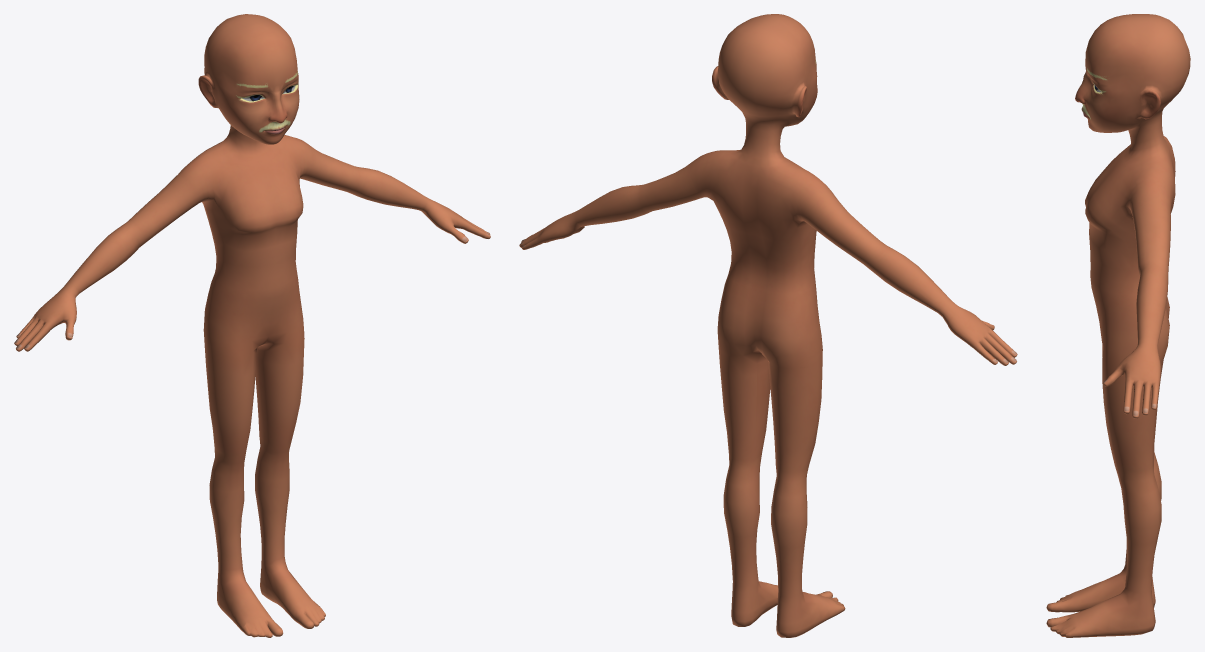
Rendered from frame_0067.glb.
3 renders of one model, left to right at view 1: azimuth 30°, elevation 25°; view 2: azimuth 150°, elevation 25°; view 3: azimuth 270°, elevation 25°, orthographic. The views are drawn at different scales.
Visible parts, largest first — view 1: frame_0067_head_geo; view 2: frame_0067_head_geo; view 3: frame_0067_head_geo.
Part boxes in pixels (x1=…): frame_0067_head_geo: x1=14, y1=14, x2=490, y2=637; frame_0067_head_geo: x1=519, y1=14, x2=1017, y2=637; frame_0067_head_geo: x1=1046, y1=14, x2=1190, y2=637.
Size of the model in its own units: 1.28 by 1.5 by 0.3253.
Materials: 3 (3 with a texture image).
